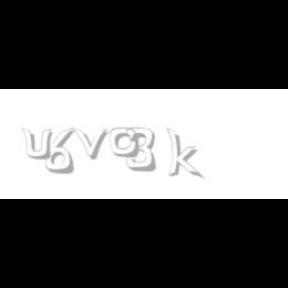3: (127, 128, 158, 172)
6: (46, 128, 74, 176)
k: (166, 128, 204, 180)
o: (110, 128, 138, 158)
u: (21, 128, 56, 160)
v: (72, 128, 112, 160)
